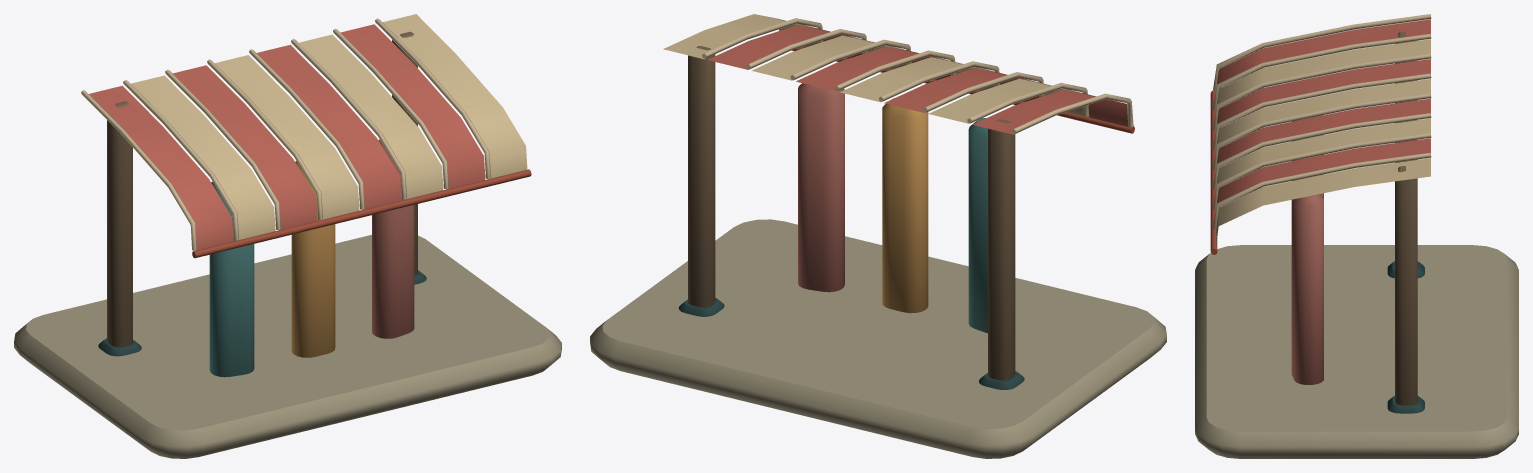
The model's file is event_island_week.glb.
3 renders of one model, left to right at view 1: azimuth 30°, elevation 25°; view 2: azimuth 150°, elevation 25°; view 3: azimuth 270°, elevation 25°, orthographic. The views are drawn at different scales.
Parts seen in each view (by area): view 1: EventIslandWeek; view 2: EventIslandWeek; view 3: EventIslandWeek.
Boxes of the visible parts, bbox=[...] form: EventIslandWeek: bbox=[14, 14, 561, 458]; EventIslandWeek: bbox=[590, 14, 1166, 458]; EventIslandWeek: bbox=[1195, 14, 1518, 458].
Bounding box in the file's own units: 2.45 × 1.59 × 1.71.
